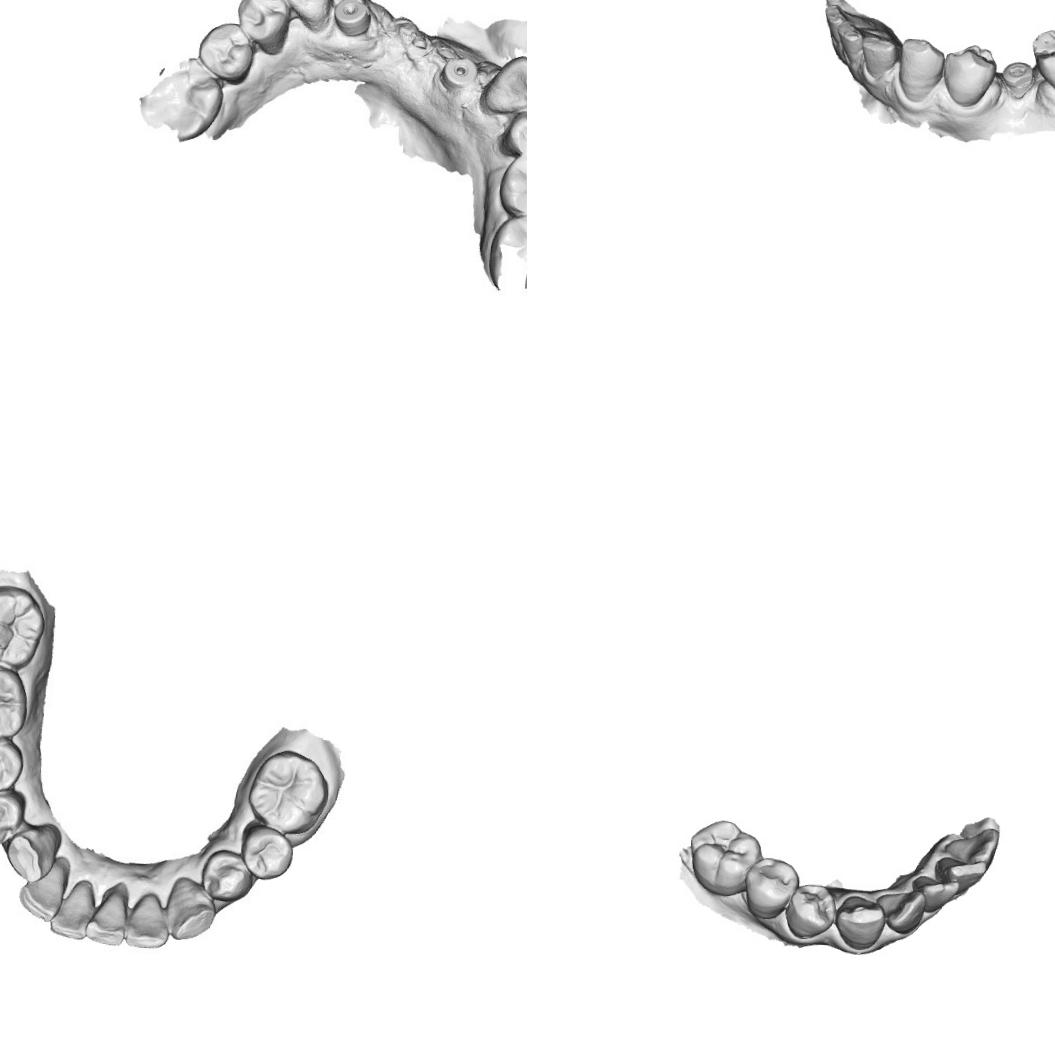canine: (892, 34, 948, 106), (1, 820, 62, 884), (162, 875, 216, 942), (833, 886, 887, 952), (479, 53, 527, 114), (275, 0, 330, 31)
implant: (331, 0, 376, 39), (440, 54, 475, 92)
implant_minus: (997, 54, 1036, 104)
incisor: (16, 861, 69, 923), (122, 892, 175, 949), (46, 882, 98, 940), (83, 885, 130, 949), (939, 824, 1002, 868), (876, 886, 926, 936), (932, 854, 988, 896), (912, 870, 963, 914), (858, 30, 900, 82), (836, 20, 868, 78), (823, 4, 876, 36)
molar: (243, 746, 331, 837), (140, 55, 218, 146), (684, 813, 763, 899), (0, 579, 48, 668), (485, 210, 527, 300), (0, 660, 33, 747), (1027, 13, 1055, 99)
premolar: (940, 42, 997, 110), (236, 823, 296, 882), (786, 876, 839, 942), (742, 854, 796, 918), (237, 0, 291, 59), (198, 22, 253, 79), (200, 847, 255, 904), (494, 154, 527, 218), (0, 789, 29, 843), (500, 104, 527, 160), (0, 738, 25, 793)
